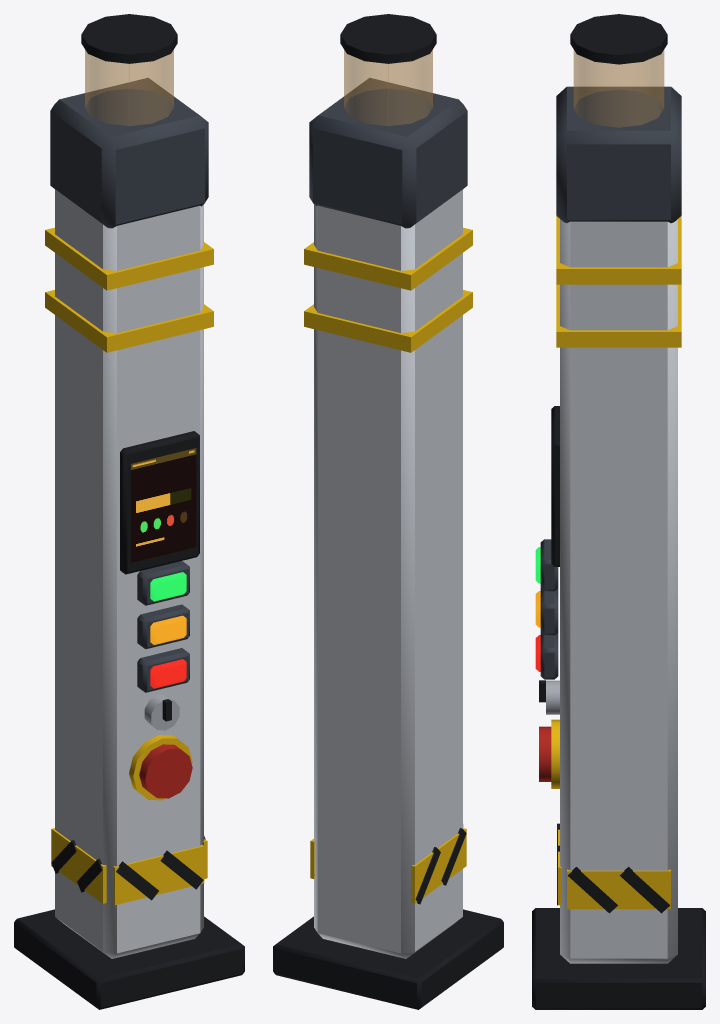
The model's file is hangartool_door_control_pillar.glb.
The picture shows the model from 3 angles, left to right: view 1: azimuth 30°, elevation 25°; view 2: azimuth 150°, elevation 25°; view 3: azimuth 270°, elevation 25°; orthographic projection.
Parts seen in each view (by area): view 1: hangartool_door_control_pillar; view 2: hangartool_door_control_pillar; view 3: hangartool_door_control_pillar.
Part boxes in pixels (x1,y1,x2,y2): hangartool_door_control_pillar: [14, 14, 244, 1009]; hangartool_door_control_pillar: [273, 14, 503, 1009]; hangartool_door_control_pillar: [532, 14, 705, 1009].
Bounding box in the file's own units: 0.5 × 2.99 × 0.5.
Materials: 11 (1 with a texture image).
